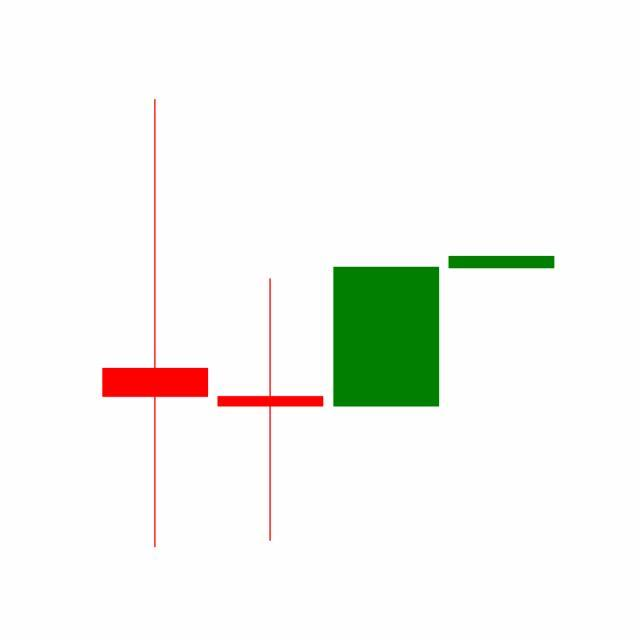Marubozu: (329, 265, 445, 408)
